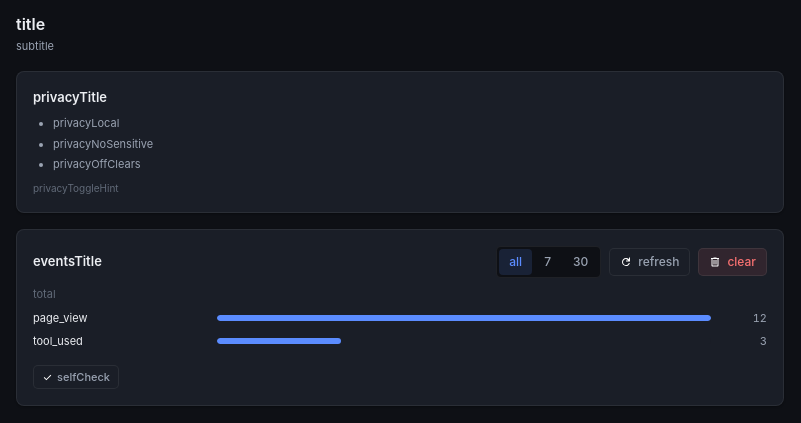
Test: UsagePage 自检 › 真的写进去了才报「通过」
Expected: the text "total" is shown, [33,286,56,300]
What coordinates should you click on to do the following:
click the button "selfCheck"
I would click on:
 (76, 377)
Its box is [33,365,119,389].
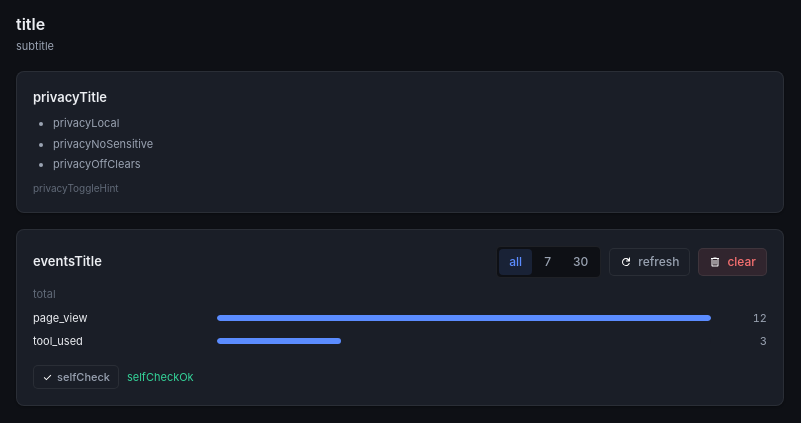
Result: the text "selfCheckOk" is shown at [127,369,194,385]
